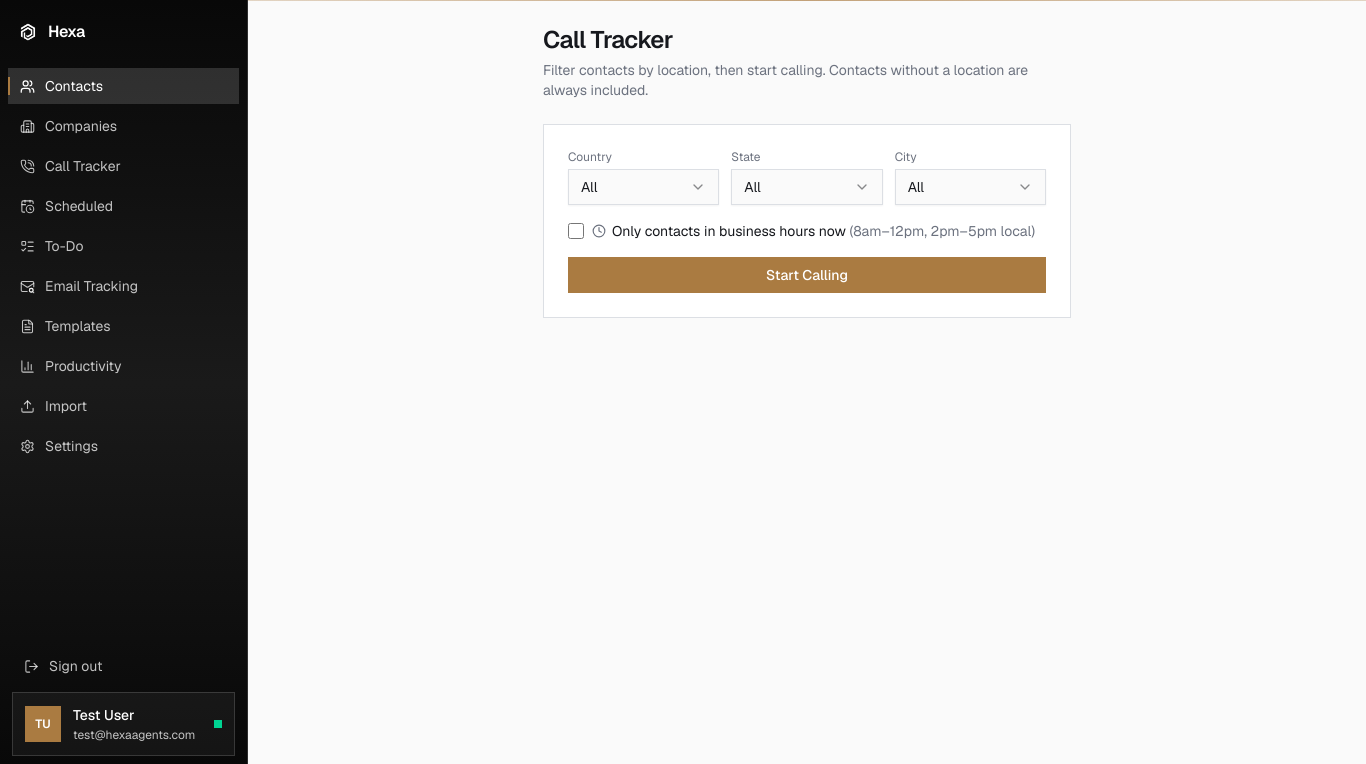
CallTrackerPage › shows a prominent warning banner when the contact's company is flagged
This screenshot has width=1366, height=764.
What coordinates should you click on to do the following:
click the button "Start Calling"
I would click on:
 (807, 275)
Its box is [568,257,1046,293].
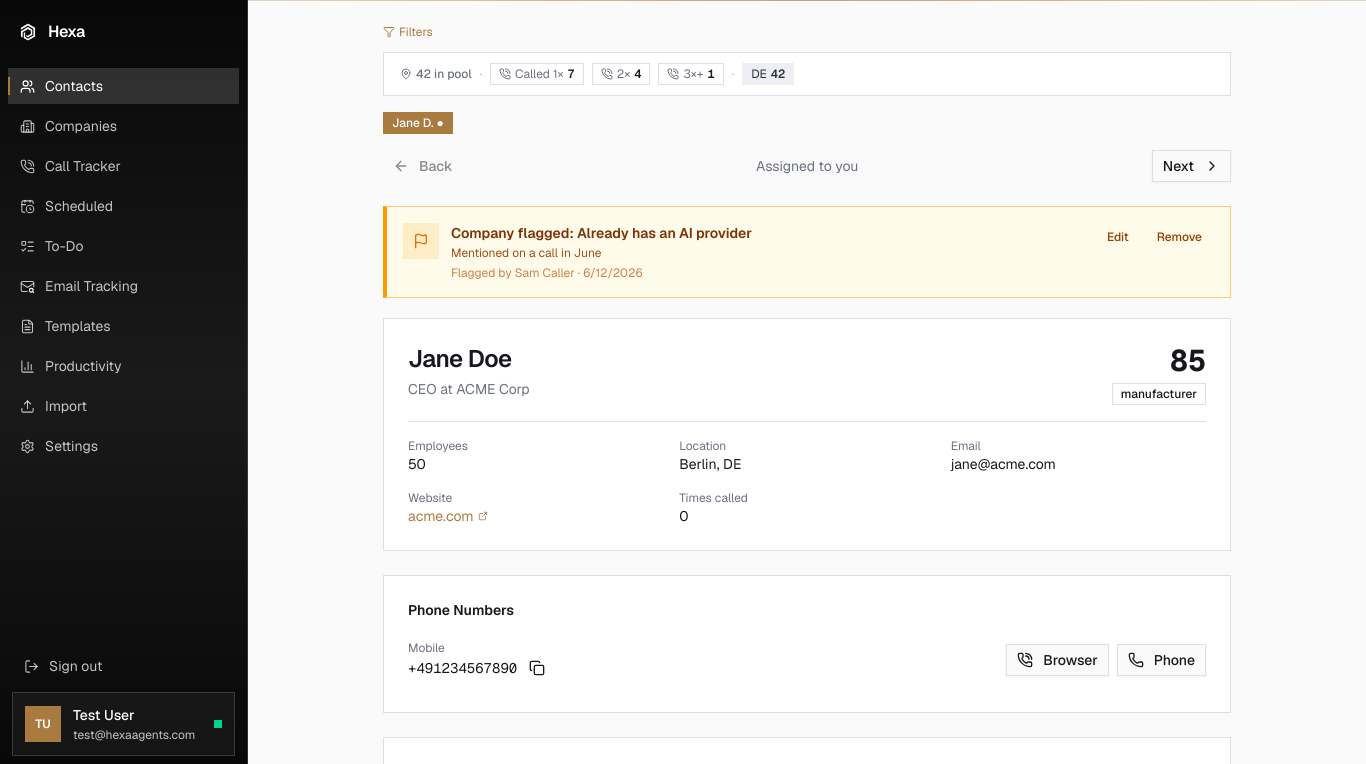
Result: the heading "Jane Doe" is shown at [408,343,530,375]
Result: the text "Company flagged: Already has an AI provider" is shown at [451,224,752,242]
Result: the text "Mentioned on a call in June" is shown at [451,245,602,261]
